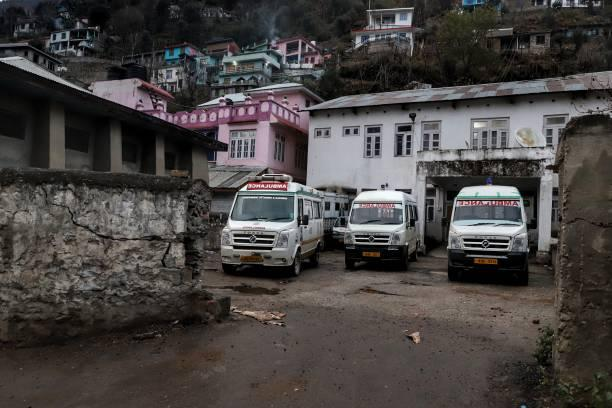ER: (218, 174, 323, 278), (446, 184, 529, 286), (342, 188, 421, 266)
